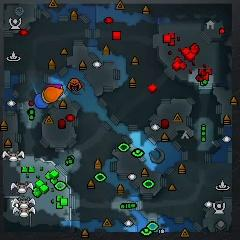p1: (35, 93, 48, 110)
p3: (43, 83, 61, 89)
p4: (42, 90, 50, 103)
p5: (44, 88, 64, 102)
